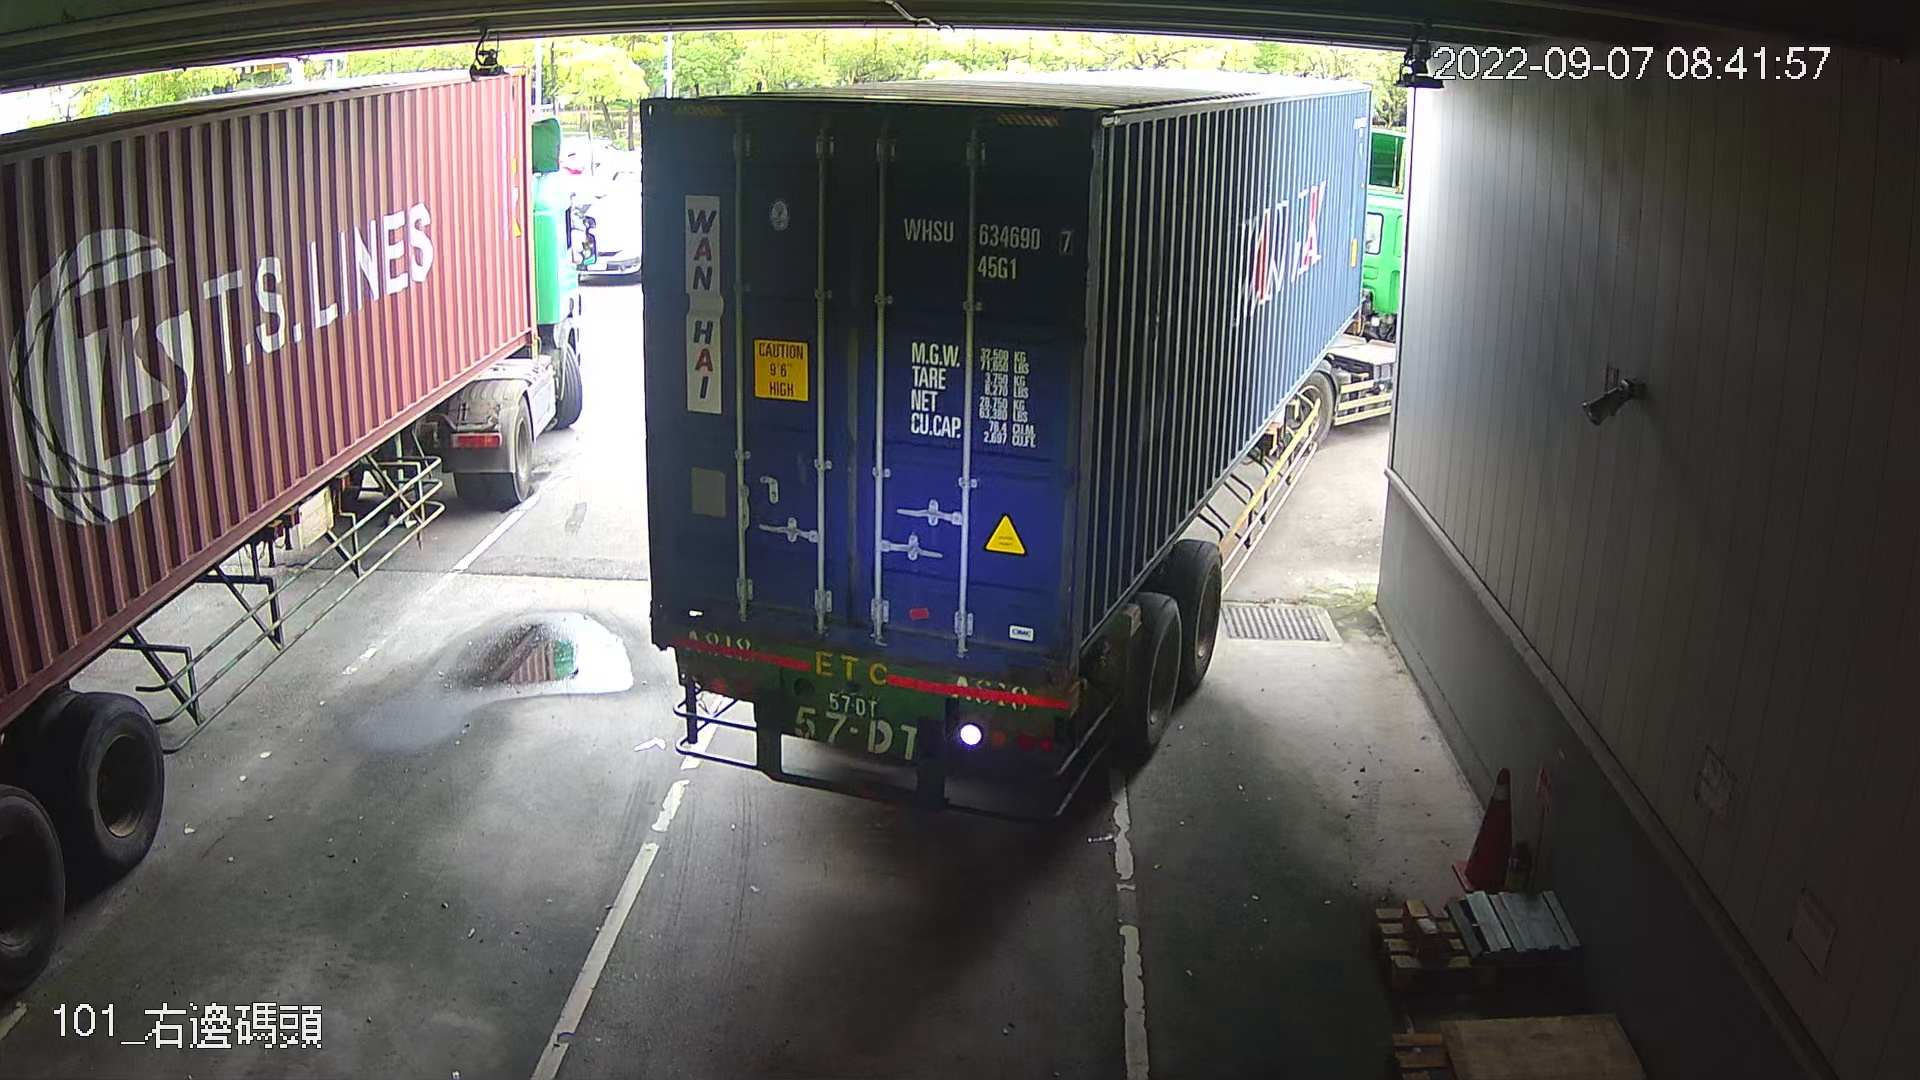container: (891, 200, 1081, 289)
